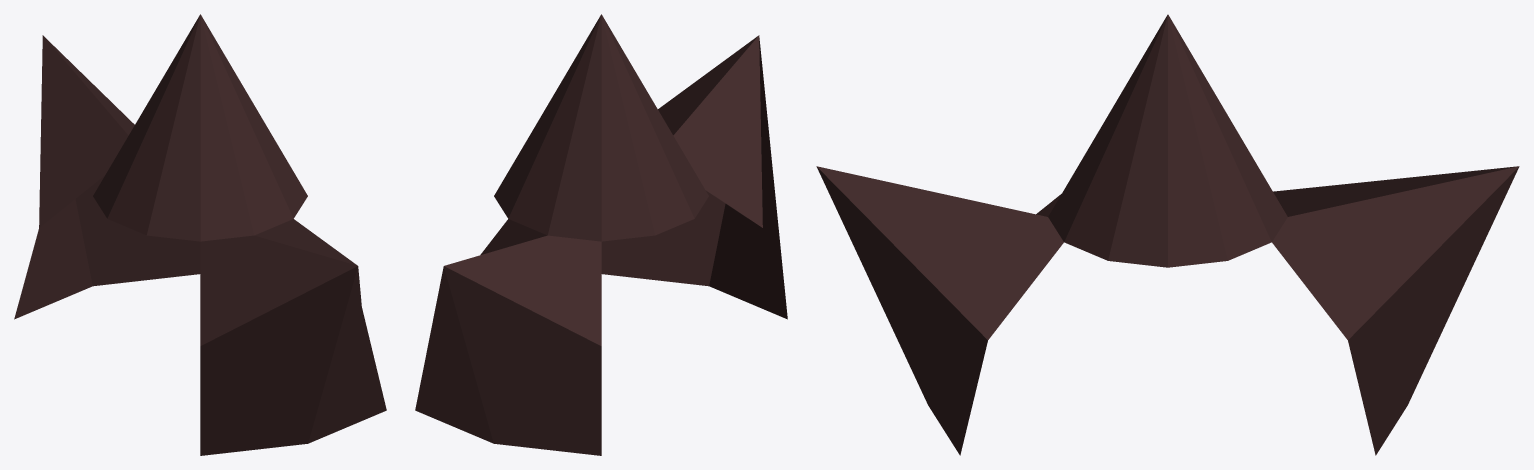
The model's file is LibertySpikes.fbx.
The picture shows the model from 3 angles, left to right: view 1: azimuth 30°, elevation 25°; view 2: azimuth 150°, elevation 25°; view 3: azimuth 270°, elevation 25°; orthographic projection. The views are drawn at different scales.
Visible parts, largest first — view 1: pSphere1; view 2: pSphere1; view 3: pSphere1.
Boxes of the visible parts, box(x1,y1,x2,y2) form: pSphere1: box(14, 14, 386, 455); pSphere1: box(415, 14, 787, 455); pSphere1: box(816, 14, 1519, 455).
Size of the model in its own units: 50 by 90 by 147.
